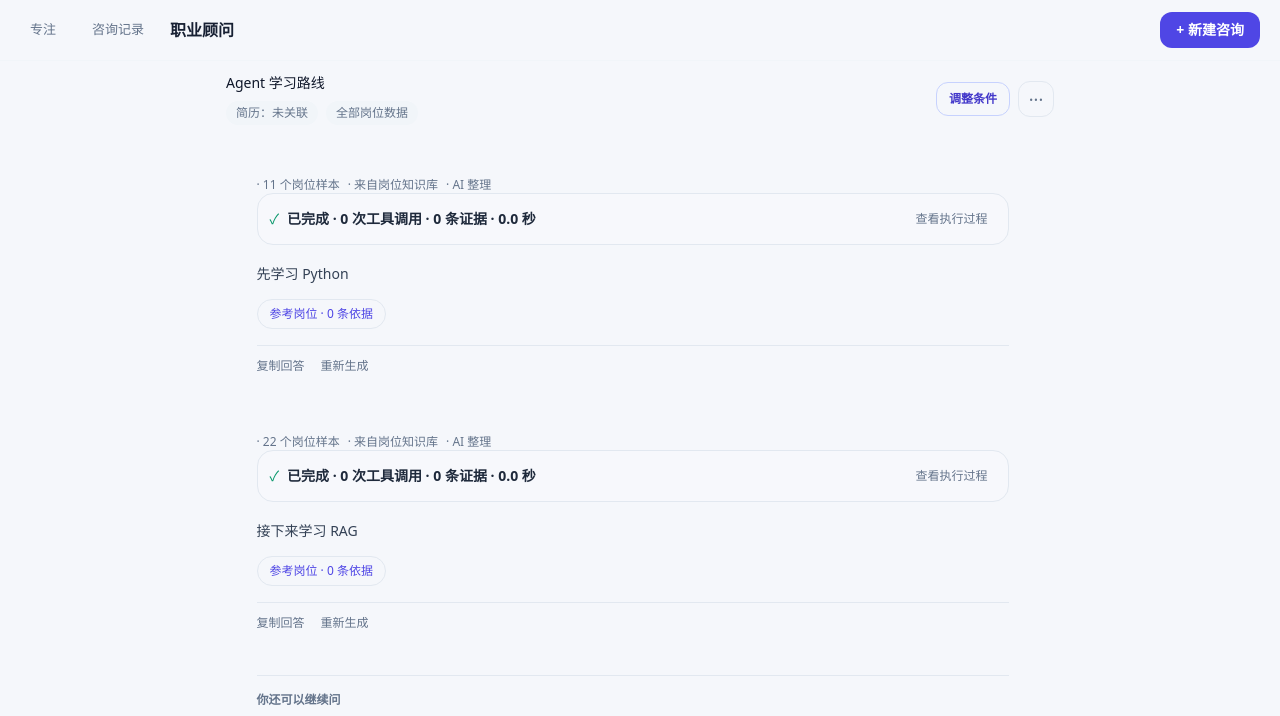
Test: provides searchable history without blocking the chat layout
This screenshot has width=1280, height=716.
Expected: the text "先学习 Python" is shown, [256,264,349,283]
Step 1. Click the button "咨询记录" → (118, 30), box [82,12,154,48]
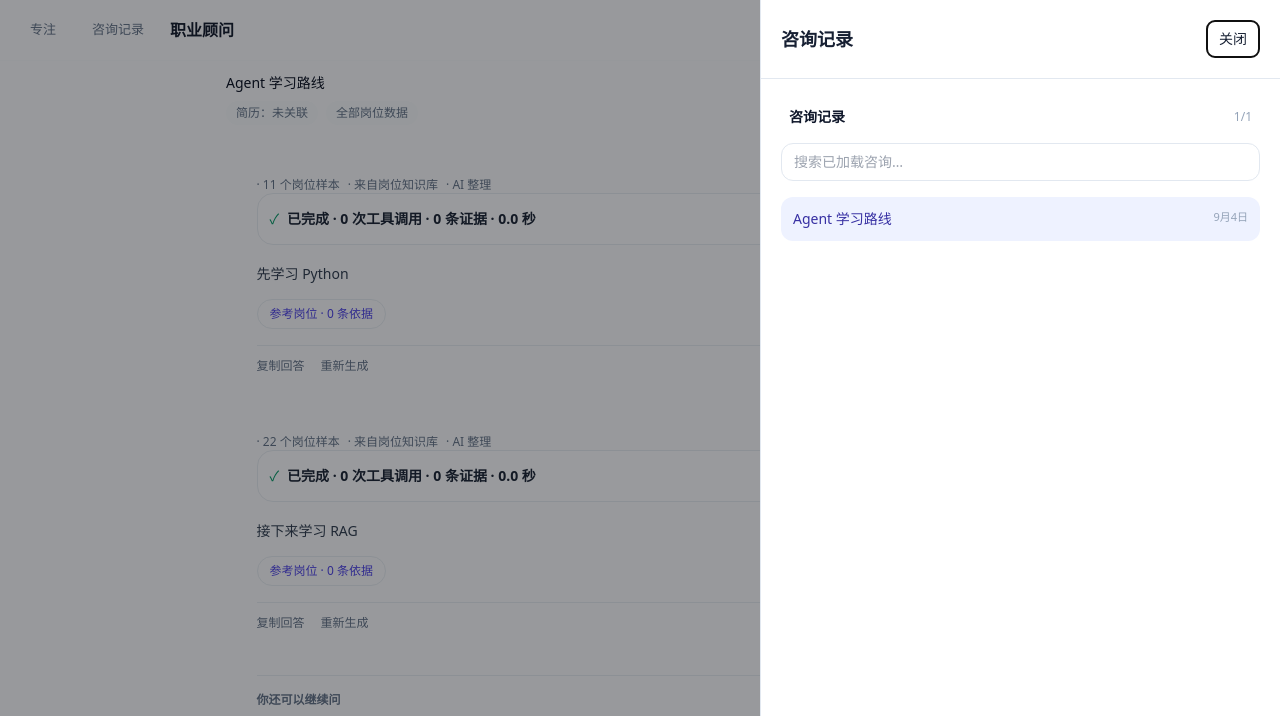
Step 2. Type "其他主题" into the field labelled "搜索已加载咨询" → (1020, 162), box [781,143,1260,181]
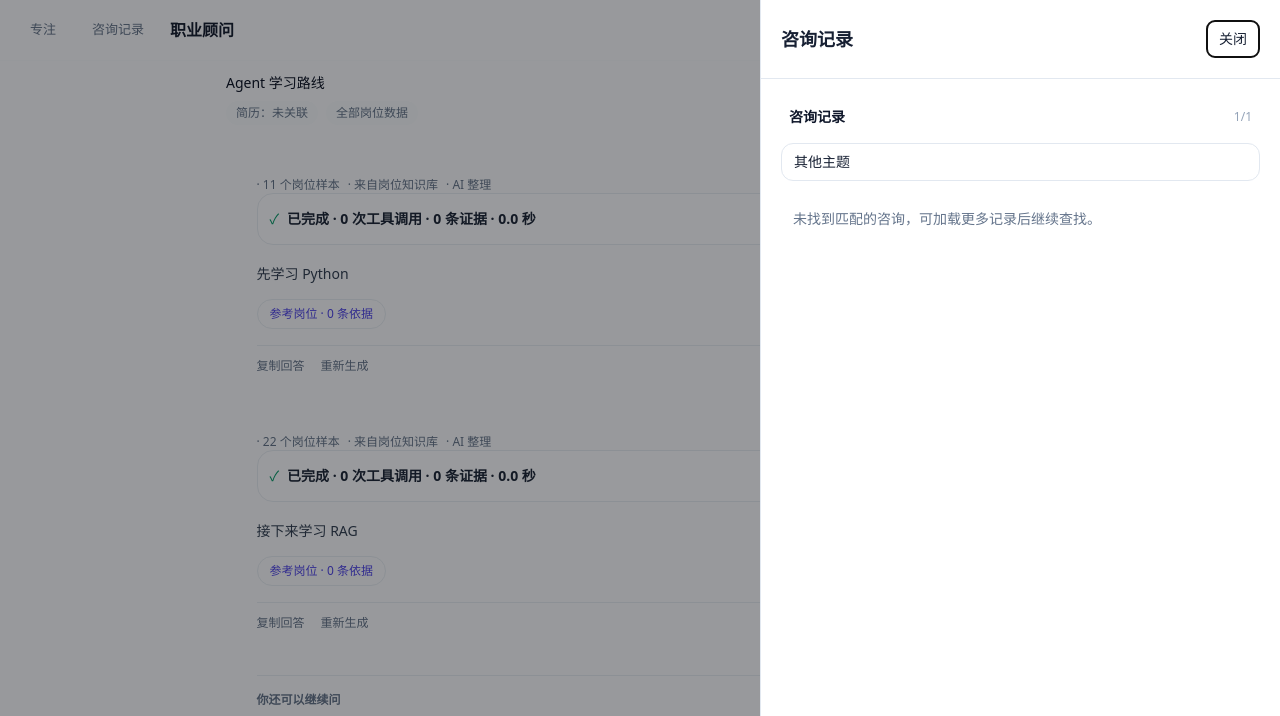
Expected: the text "未找到匹配的咨询，可加载更多记录后继续查找。" is shown, [793,209,1101,228]
